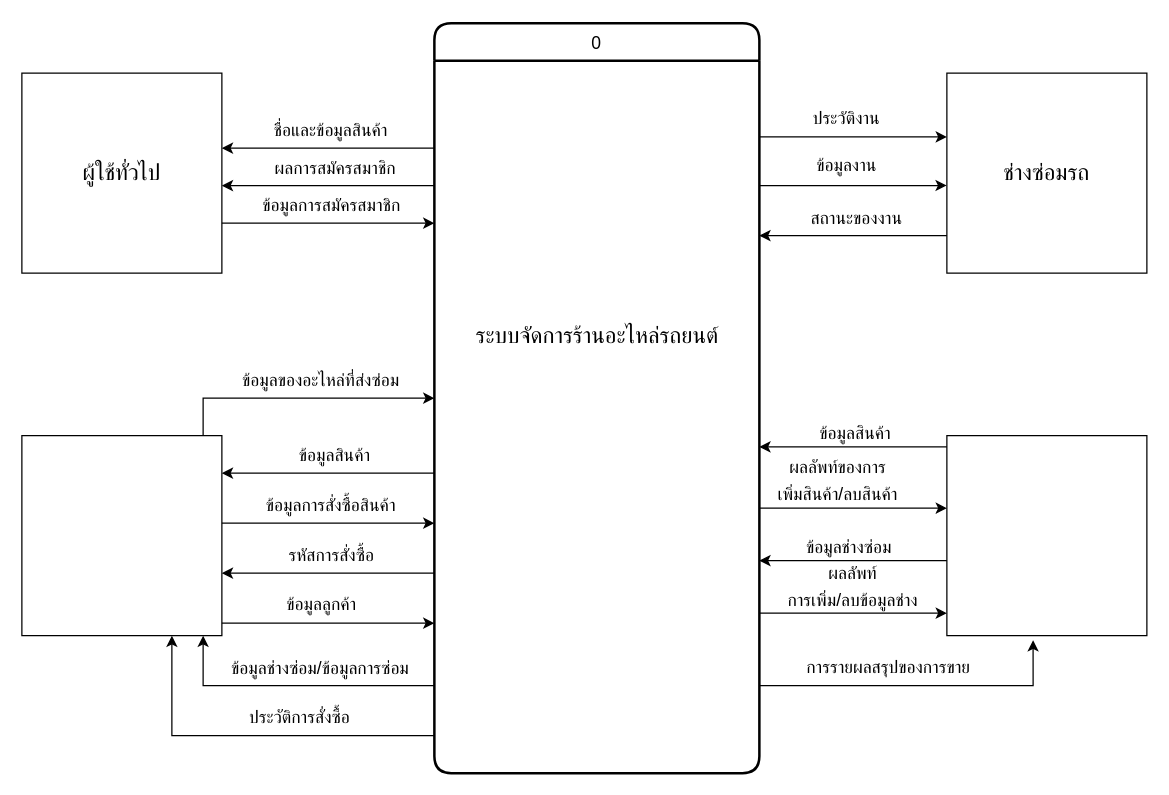
This 1169x795 diagram has some shape labels left out. The shapes that lost their labels are listed below. From the top down, each one's box as (x1, y1, x2, y2) in pixels, then its label:
(21, 434, 222, 636): ลูกค้า/สมาชิก
(946, 434, 1147, 636): ผู้ดูแลระบบ
